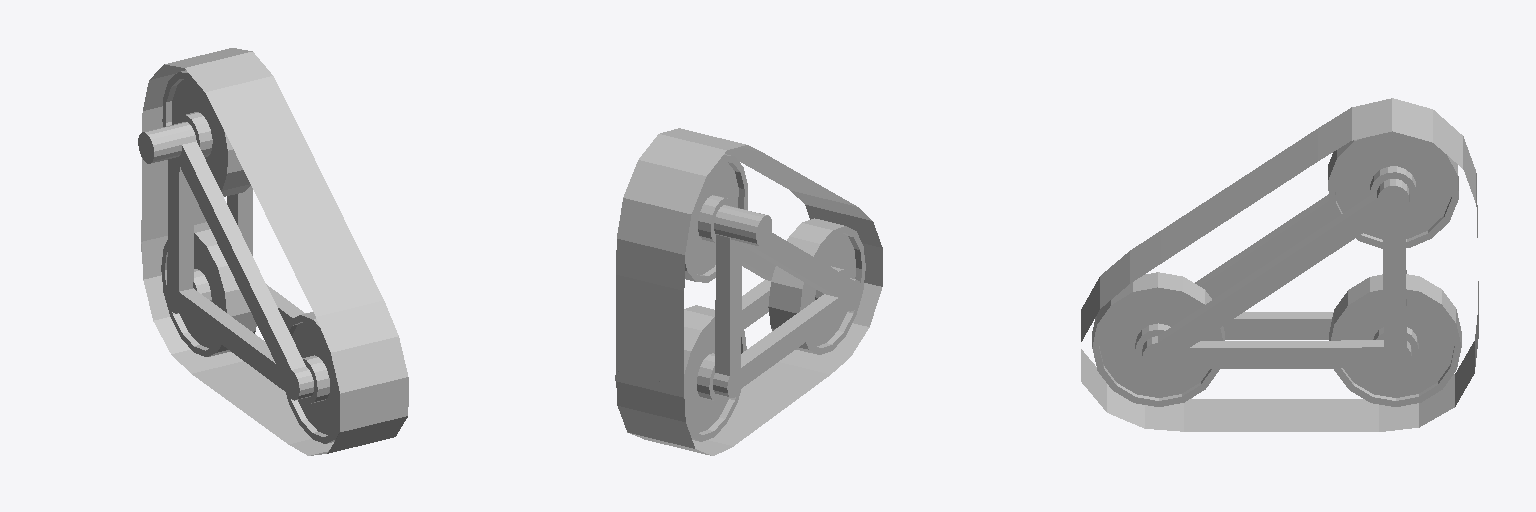
File: wheel.obj
3 views of the same model, side by side, from view 1: azimuth 30°, elevation 25°; view 2: azimuth 150°, elevation 25°; view 3: azimuth 270°, elevation 25° (orthographic).
Parts seen in each view (by area): view 1: Cube.023, Cylinder.009_Cylinder.018; view 2: Cube.023, Cylinder.009_Cylinder.018; view 3: Cylinder.009_Cylinder.018, Cube.023.
Boxes of the visible parts, box(x1,y1,x2,y2) form: Cube.023: box(141, 48, 408, 455); Cylinder.009_Cylinder.018: box(138, 70, 339, 443); Cube.023: box(615, 128, 882, 455); Cylinder.009_Cylinder.018: box(684, 154, 865, 441); Cylinder.009_Cylinder.018: box(1092, 131, 1461, 406); Cube.023: box(1081, 98, 1478, 431).
Size of the model in its own units: 1.11 by 3 by 3.59.